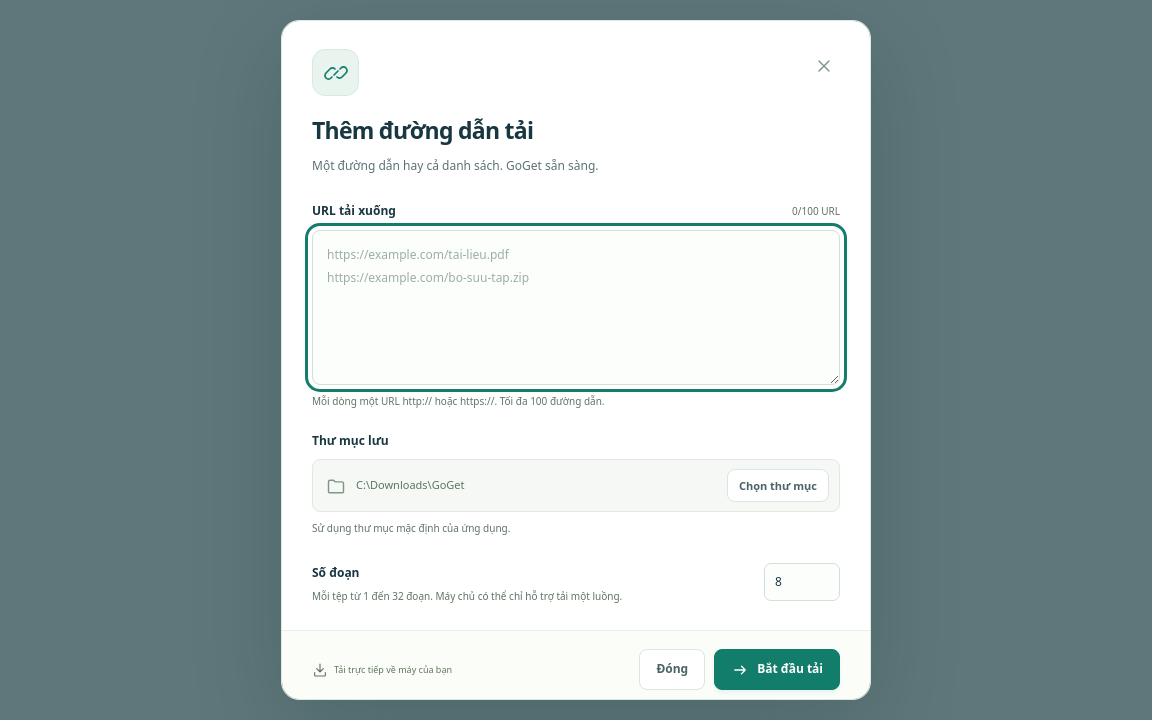
Test: Add URLs dialog › rejects invalid segment count 1.5 before calling the backend
Replace the text in the text box labelled "URL tải xuống" with "https://example.com/a" at (576, 308), box [312,230,840,385]
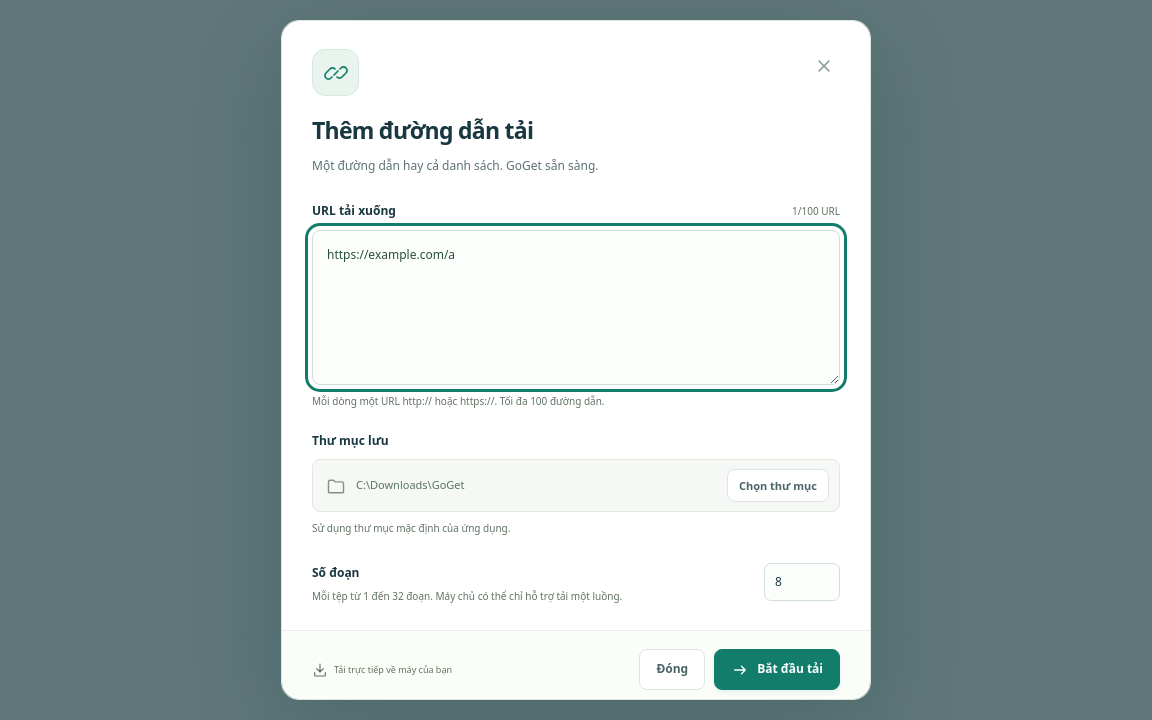
Replace the text in the number field labelled "Số đoạn" with "1.5" at (802, 582), box [764,563,840,601]
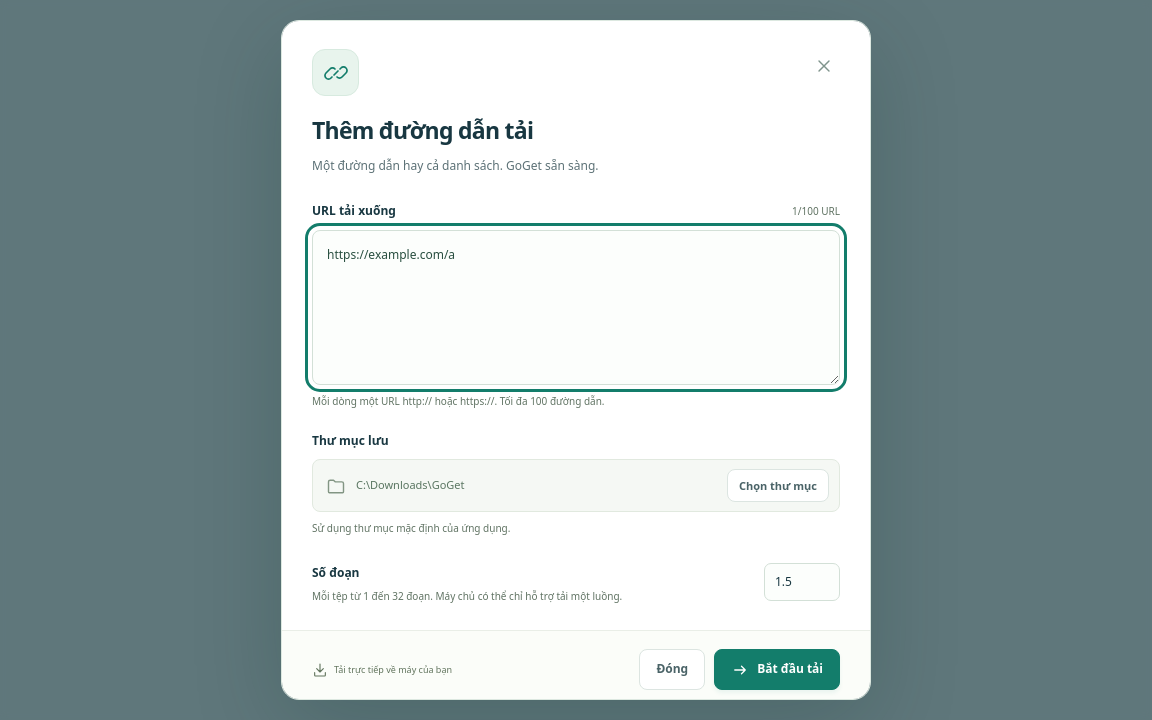
Click the button "Bắt đầu tải" at (777, 670), box [714,649,840,690]
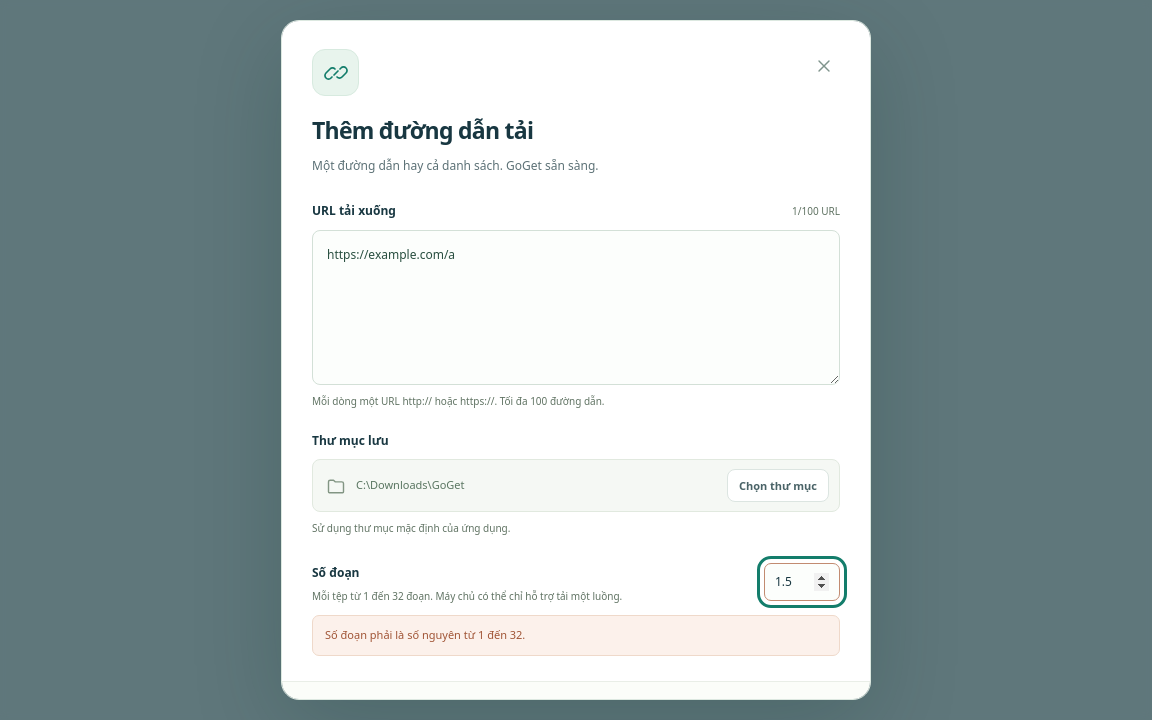
Result: the message shows "Số đoạn phải là số nguyên từ 1 đến 32" at [325,627,525,642]
